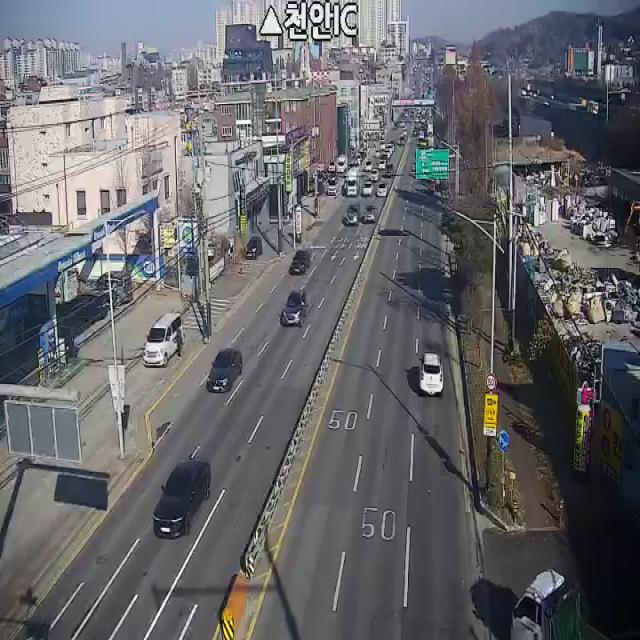Car: (153, 460, 211, 539), (143, 313, 185, 368), (206, 348, 242, 394), (94, 272, 133, 306), (421, 354, 444, 396), (282, 290, 308, 326), (290, 250, 311, 275), (246, 236, 263, 258), (345, 204, 361, 225), (364, 204, 378, 223), (327, 177, 339, 195), (338, 154, 348, 174), (362, 180, 374, 196), (377, 182, 389, 196), (365, 159, 374, 171), (370, 169, 379, 181), (328, 161, 336, 173), (378, 161, 386, 171)
Truck: (511, 568, 616, 640), (347, 167, 360, 196)
